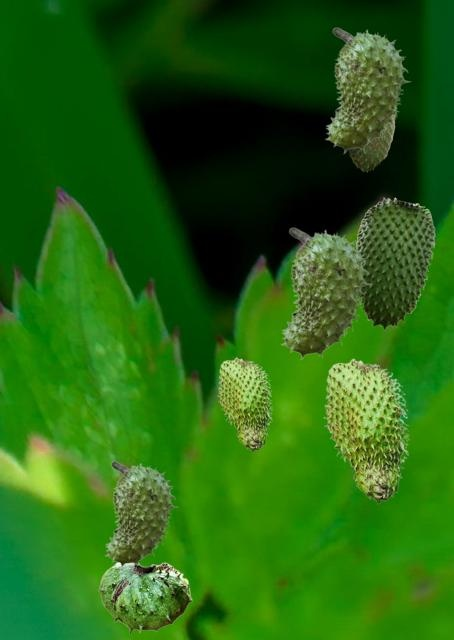guyabano: (323, 358, 409, 503), (280, 227, 371, 359), (324, 27, 410, 153), (355, 197, 434, 329), (104, 461, 177, 567), (98, 562, 191, 634), (217, 357, 272, 451), (348, 108, 396, 171)
